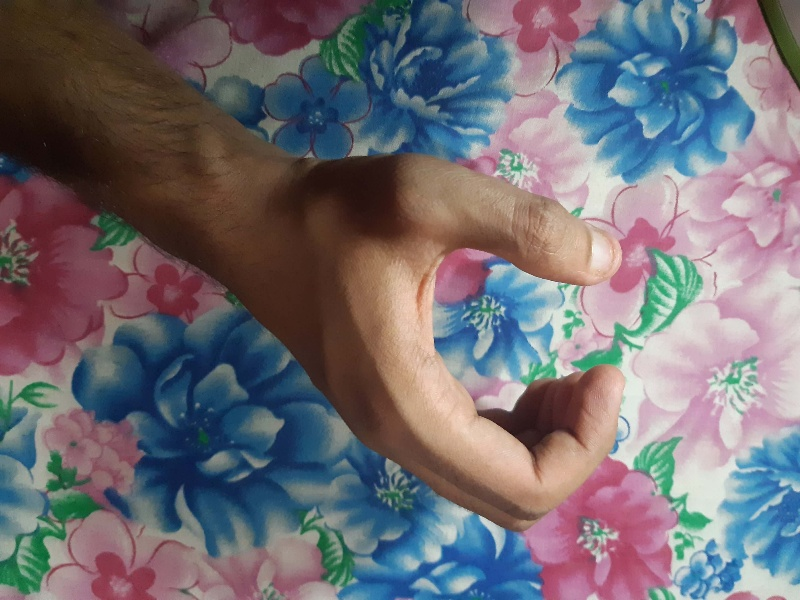one: (262, 131, 669, 542)
